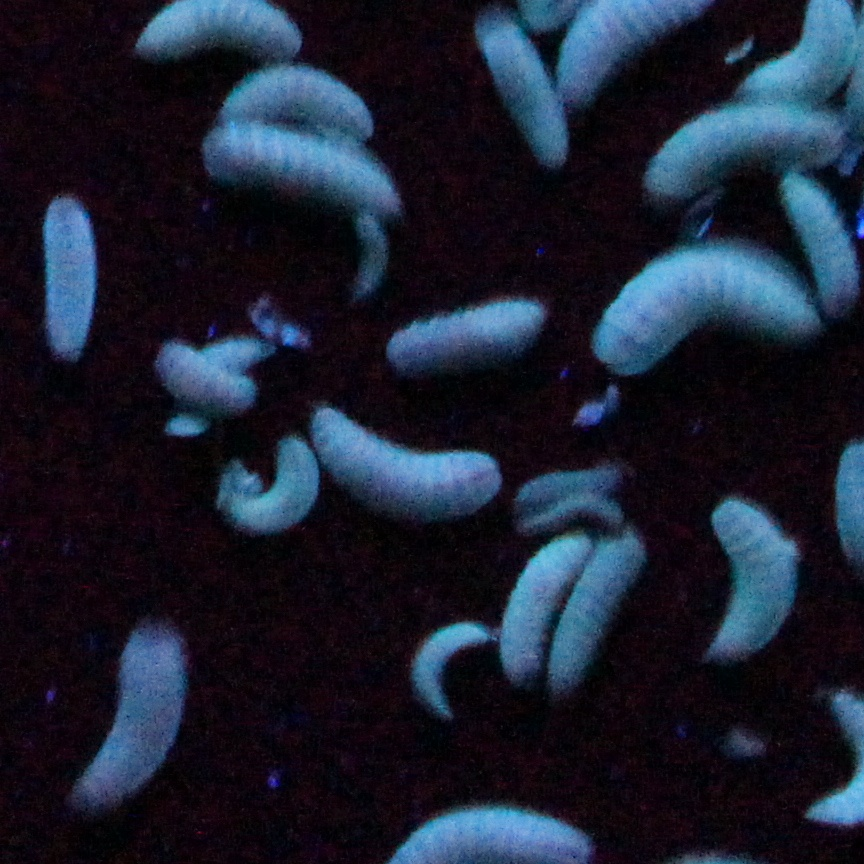larve: (589, 250, 815, 376), (313, 405, 500, 523), (75, 621, 182, 814), (644, 108, 842, 199), (200, 121, 393, 212), (551, 532, 646, 694), (704, 496, 798, 659), (475, 3, 564, 163), (500, 541, 595, 679), (775, 172, 860, 312), (384, 301, 546, 374), (218, 436, 326, 543), (44, 194, 100, 363), (155, 336, 269, 419), (413, 619, 493, 723), (520, 470, 626, 521), (358, 214, 391, 299), (202, 336, 274, 372)
